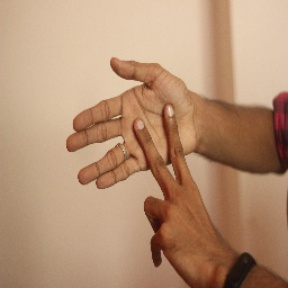N: (64, 54, 211, 228)
